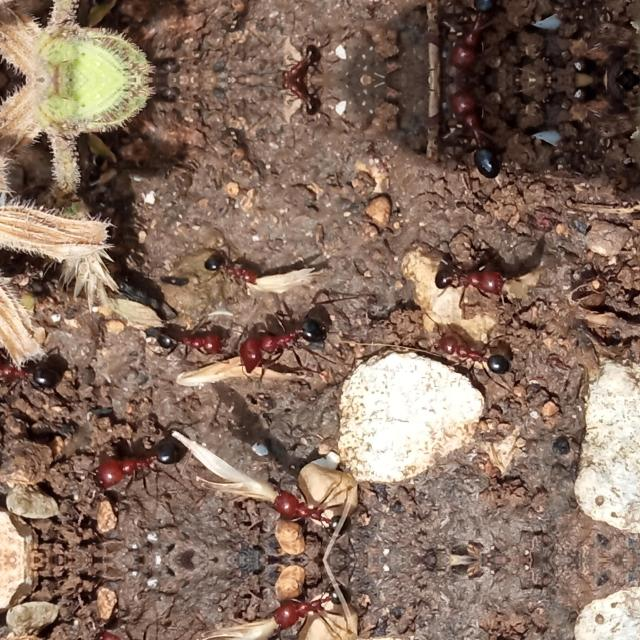Messor: (89, 420, 185, 496), (268, 478, 364, 540), (441, 96, 511, 180), (268, 579, 364, 640), (232, 310, 322, 368), (432, 321, 514, 379), (441, 0, 511, 64), (0, 351, 66, 399), (433, 254, 503, 296), (152, 325, 220, 361), (202, 251, 256, 289), (282, 80, 332, 114), (282, 46, 332, 80), (89, 624, 185, 640)
